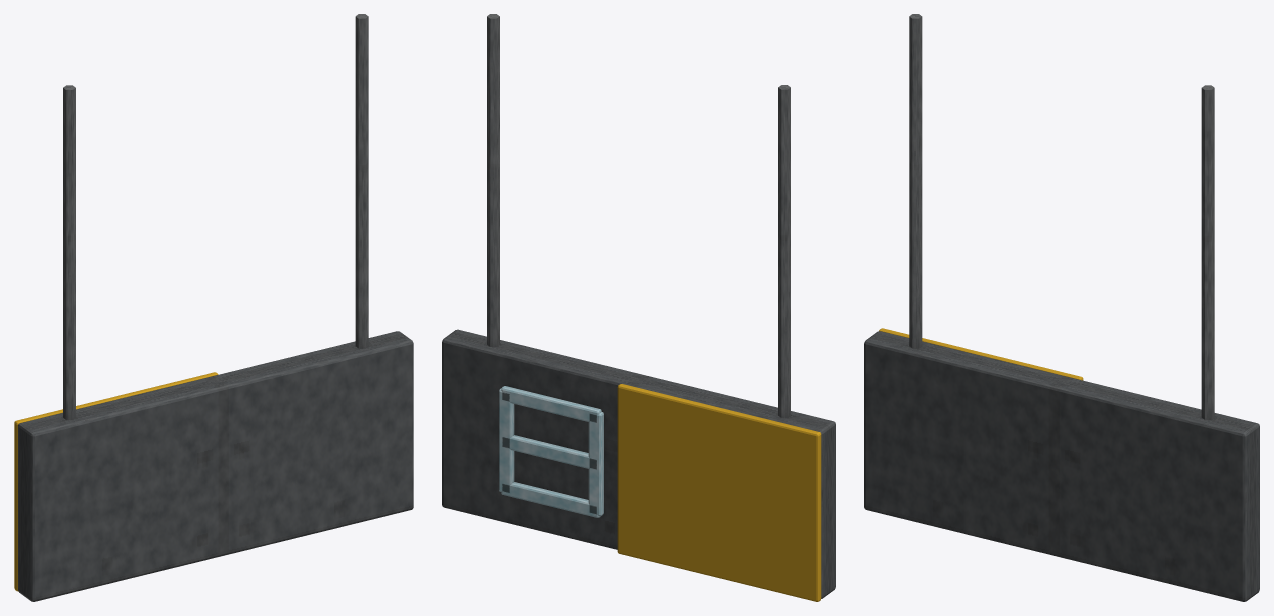
File: base_hanging_sign_warehouse.glb
3 renders of one model, left to right at view 1: azimuth 30°, elevation 25°; view 2: azimuth 150°, elevation 25°; view 3: azimuth 330°, elevation 25°, orthographic.
Parts seen in each view (by area): view 1: base_hanging_sign_warehouse; view 2: base_hanging_sign_warehouse; view 3: base_hanging_sign_warehouse.
Part boxes in pixels (x1,y1,x2,y2): base_hanging_sign_warehouse: [14, 14, 413, 601]; base_hanging_sign_warehouse: [442, 14, 835, 601]; base_hanging_sign_warehouse: [864, 14, 1259, 601].
Bounding box in the file's own units: 1.7 × 2.12 × 0.145.
Materials: 3 (3 with a texture image).
